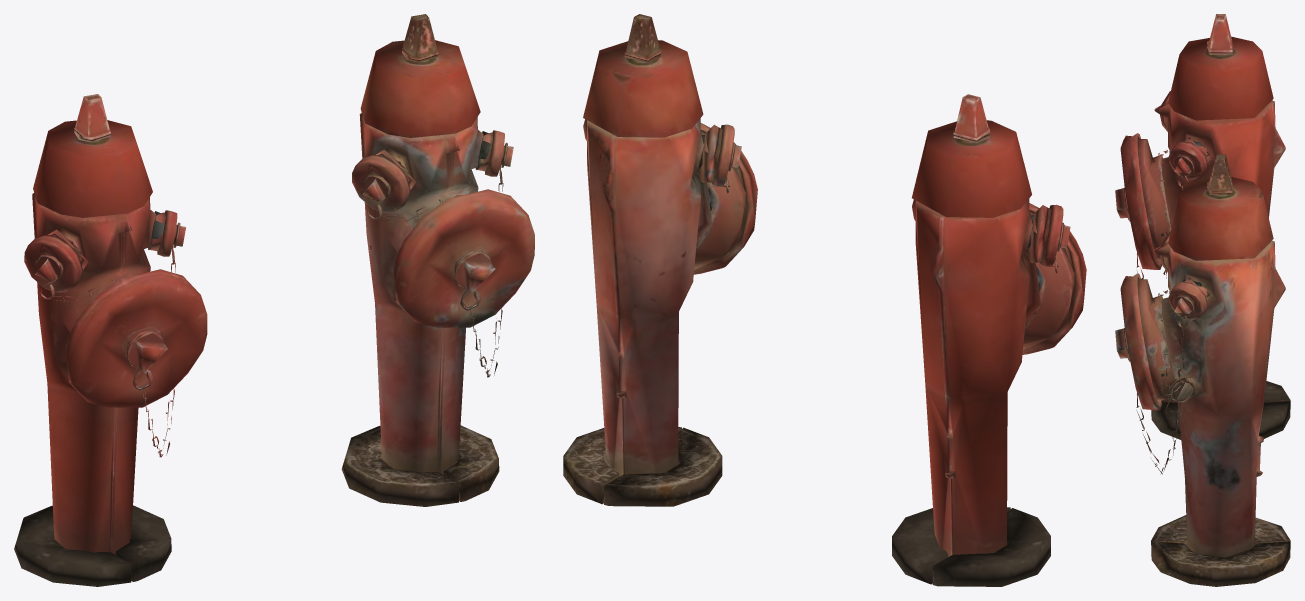
The model's file is fire_hydrant.glb.
3 views of the same model, side by side, from view 1: azimuth 30°, elevation 25°; view 2: azimuth 150°, elevation 25°; view 3: azimuth 270°, elevation 25° (orthographic). The views are drawn at different scales.
Parts seen in each view (by area): view 1: fire_hydrant, fire_hydrant_aged, fire_hydrant_cap_01, fire_hydrant_cap_01_aged, fire_hydrant_cap_03_aged, fire_hydrant_cap_03, fire_hydrant_chain_aged, fire_hydrant_chain, fire_hydrant_cap_02, fire_hydrant_cap_02_aged; view 2: fire_hydrant, fire_hydrant_aged, fire_hydrant_cap_01, fire_hydrant_cap_01_aged, fire_hydrant_cap_03_aged, fire_hydrant_cap_03; view 3: fire_hydrant_aged, fire_hydrant, fire_hydrant_cap_01_aged, fire_hydrant_cap_01, fire_hydrant_cap_02, fire_hydrant_cap_02_aged, fire_hydrant_chain_aged.
Part boxes in pixels (box(x1,y1,x2,y2)): fire_hydrant: box(14, 94, 171, 586); fire_hydrant_aged: box(341, 14, 499, 506); fire_hydrant_cap_01: box(65, 269, 207, 407); fire_hydrant_cap_01_aged: box(393, 189, 534, 327); fire_hydrant_cap_03_aged: box(352, 155, 410, 212); fire_hydrant_cap_03: box(24, 234, 83, 292); fire_hydrant_chain_aged: box(366, 145, 504, 377); fire_hydrant_chain: box(38, 225, 176, 457); fire_hydrant_cap_02: box(157, 210, 185, 256); fire_hydrant_cap_02_aged: box(485, 130, 513, 176); fire_hydrant: box(892, 94, 1074, 586); fire_hydrant_aged: box(563, 14, 745, 506); fire_hydrant_cap_01: box(1022, 203, 1086, 354); fire_hydrant_cap_01_aged: box(693, 123, 757, 274); fire_hydrant_cap_03_aged: box(711, 124, 741, 186); fire_hydrant_cap_03: box(1040, 204, 1070, 266); fire_hydrant_aged: box(1138, 154, 1290, 586); fire_hydrant: box(1138, 14, 1290, 439); fire_hydrant_cap_01_aged: box(1115, 273, 1161, 410); fire_hydrant_cap_01: box(1115, 133, 1161, 269); fire_hydrant_cap_02: box(1168, 141, 1207, 179); fire_hydrant_cap_02_aged: box(1168, 281, 1207, 320); fire_hydrant_chain_aged: box(1136, 290, 1195, 474).
Size of the model in its own units: 0.8745 by 0.7992 by 0.3173.
2 materials, 2 textured.
